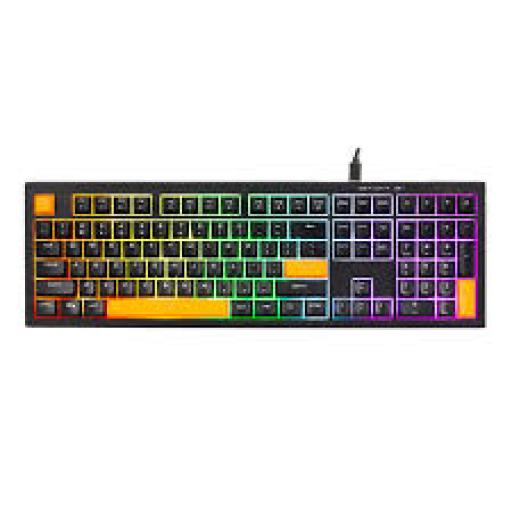keyboard: (27, 182, 482, 325)
